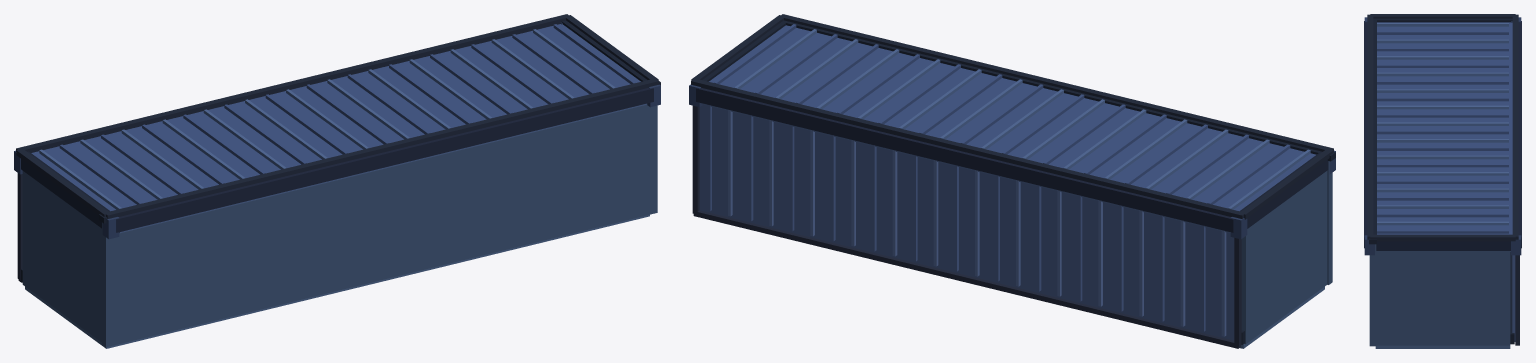
The model's file is bluebox-module.glb.
3 views of the same model, side by side, from view 1: azimuth 30°, elevation 25°; view 2: azimuth 150°, elevation 25°; view 3: azimuth 270°, elevation 25° (orthographic). The views are drawn at different scales.
Size of the model in its own units: 10.45 by 2.47 by 3.11.
